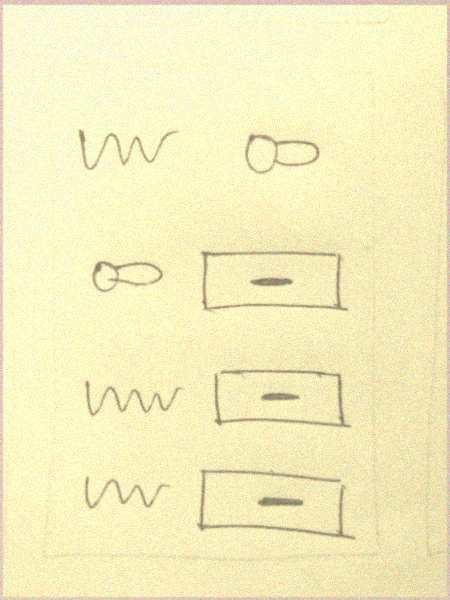button: (194, 463, 366, 544), (195, 244, 359, 318), (205, 364, 359, 439)
switch: (241, 126, 326, 189), (81, 252, 167, 298)
text: (71, 123, 183, 175), (77, 372, 186, 424), (76, 467, 173, 517)
